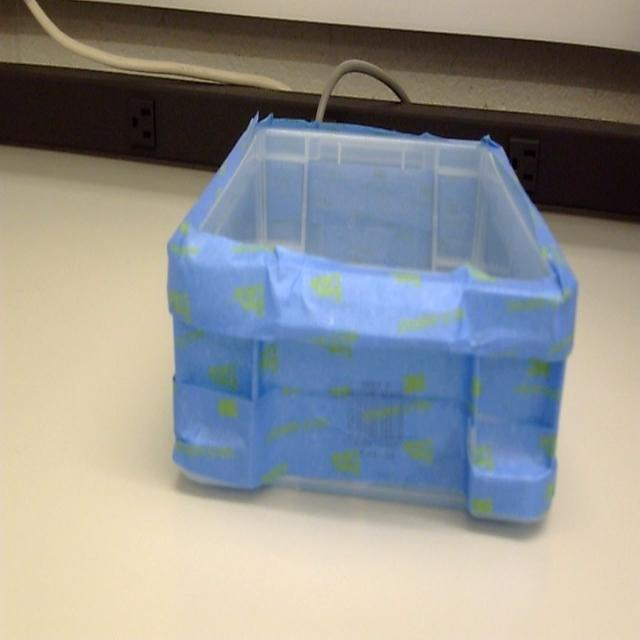bucket: (165, 114, 579, 532)
